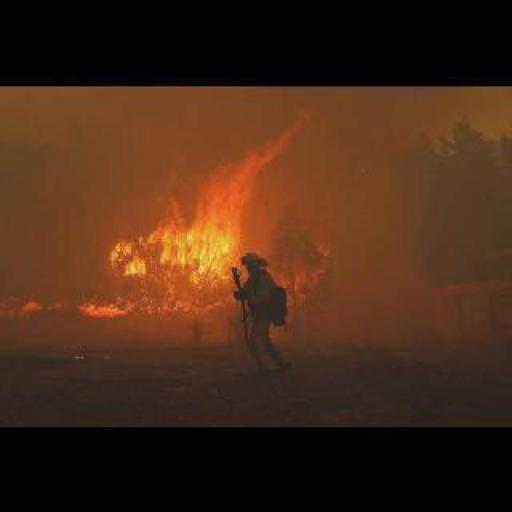smoke: (109, 109, 286, 285), (4, 291, 230, 322)
